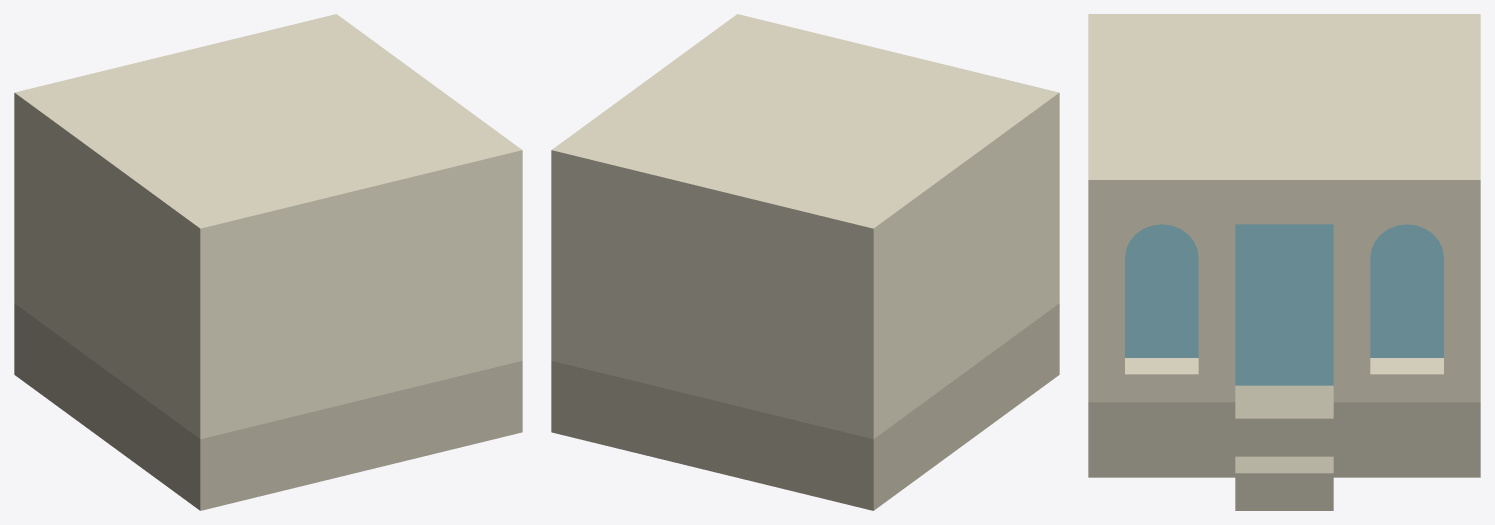
File: building_024.dae
3 views of the same model, side by side, from view 1: azimuth 30°, elevation 25°; view 2: azimuth 150°, elevation 25°; view 3: azimuth 270°, elevation 25° (orthographic). The views are drawn at different scales.
Parts seen in each view (by area): view 1: building_024; view 2: building_024; view 3: building_024.
Part boxes in pixels (x1,y1,x2,y2): building_024: (14,14,522,510); building_024: (551,14,1059,510); building_024: (1088,14,1480,510).
Size of the model in its own units: 1.2 by 0.8375 by 1.
